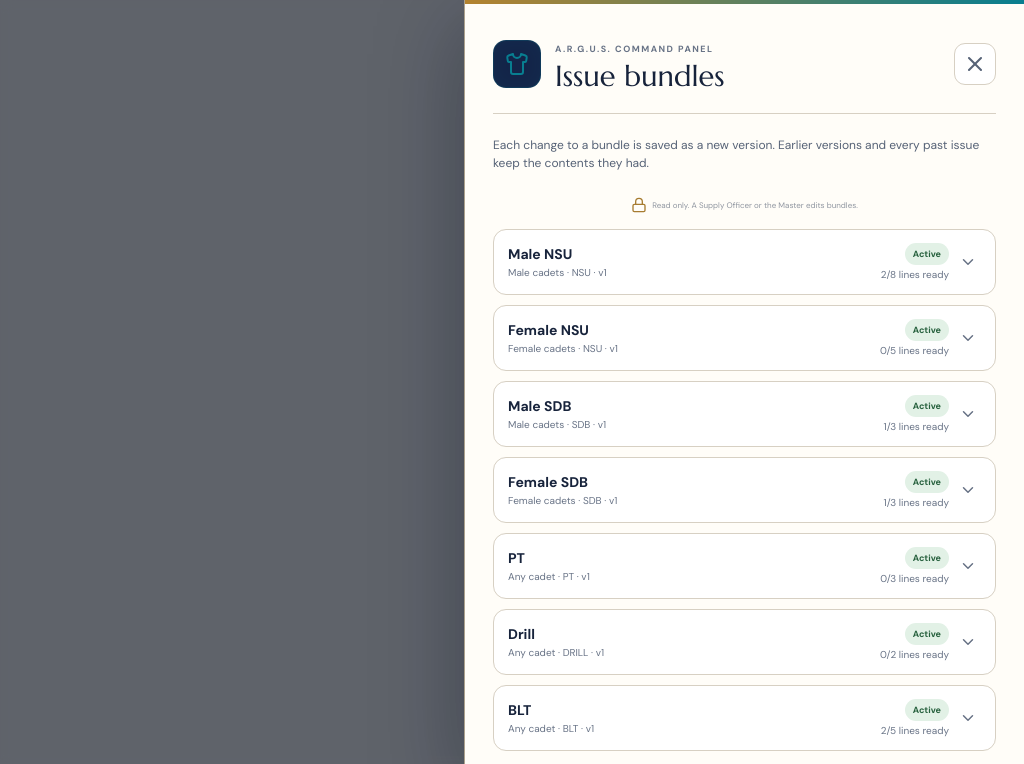
it: BundleEditorPanel › is read-only without bundles.manage
Expected: the text "Read only. A Supply Officer or the Master edits bundles." is shown, [631,197,858,213]
Click the button "Male SDB Male cadets · SDB · v1 Active 1/3 lines ready" at (540, 406), box [494,382,985,446]
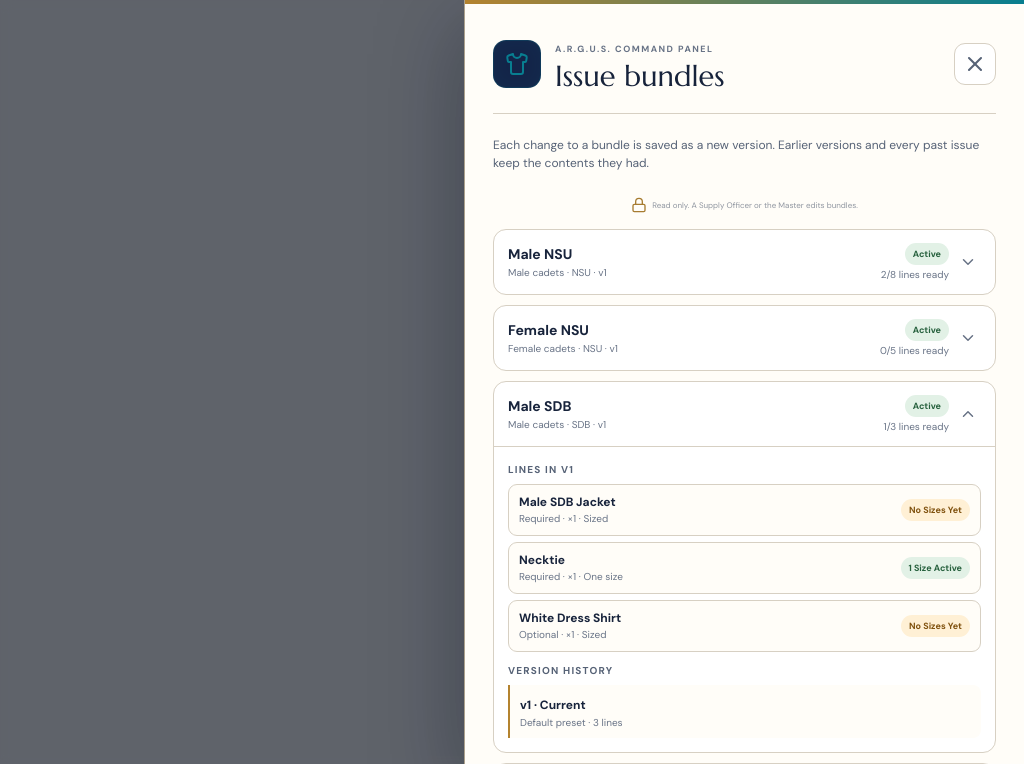
Now the text "White Dress Shirt" is shown, box [519,610,621,626]
Now the text "Optional · ×1 · Sized" is shown, box [519,628,621,642]
